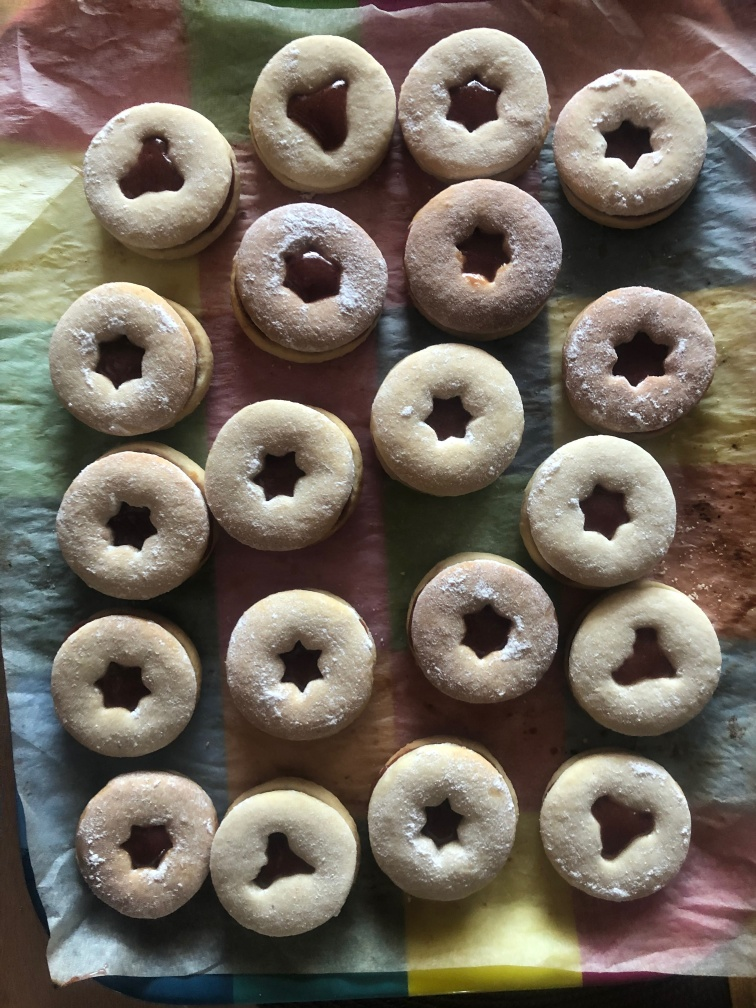christmas shortbread with jam: (52, 440, 210, 603), (46, 280, 211, 436), (553, 67, 705, 234), (368, 735, 517, 904), (232, 201, 387, 362), (539, 747, 692, 910), (406, 179, 565, 333), (368, 341, 523, 497), (408, 549, 560, 707), (244, 33, 393, 192), (206, 396, 360, 549), (85, 99, 234, 257), (571, 583, 722, 738), (521, 434, 678, 583), (224, 585, 374, 740), (216, 776, 358, 934), (566, 285, 716, 433), (400, 27, 547, 178), (74, 768, 212, 925), (52, 615, 200, 760)
